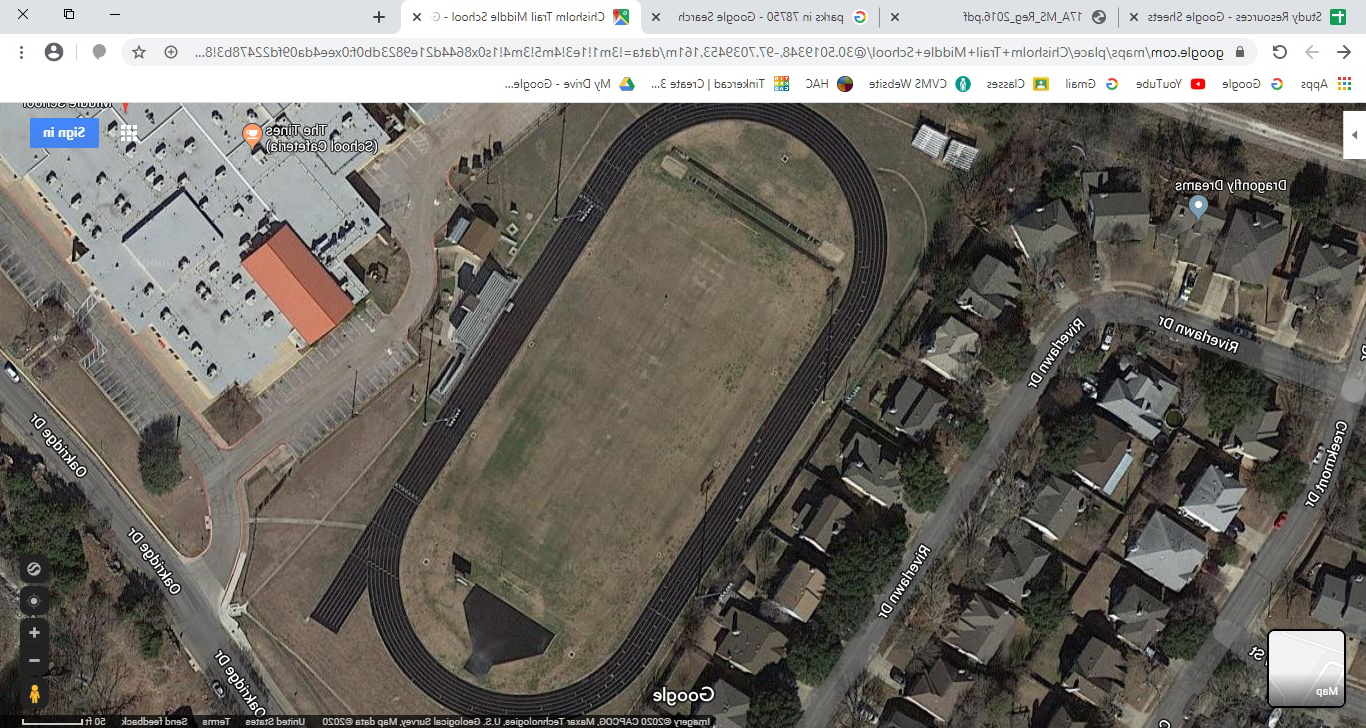soccer: (341, 107, 1000, 714)
